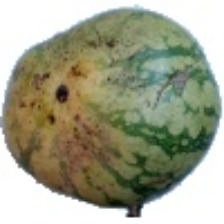watermelon: (51, 44, 204, 220)
